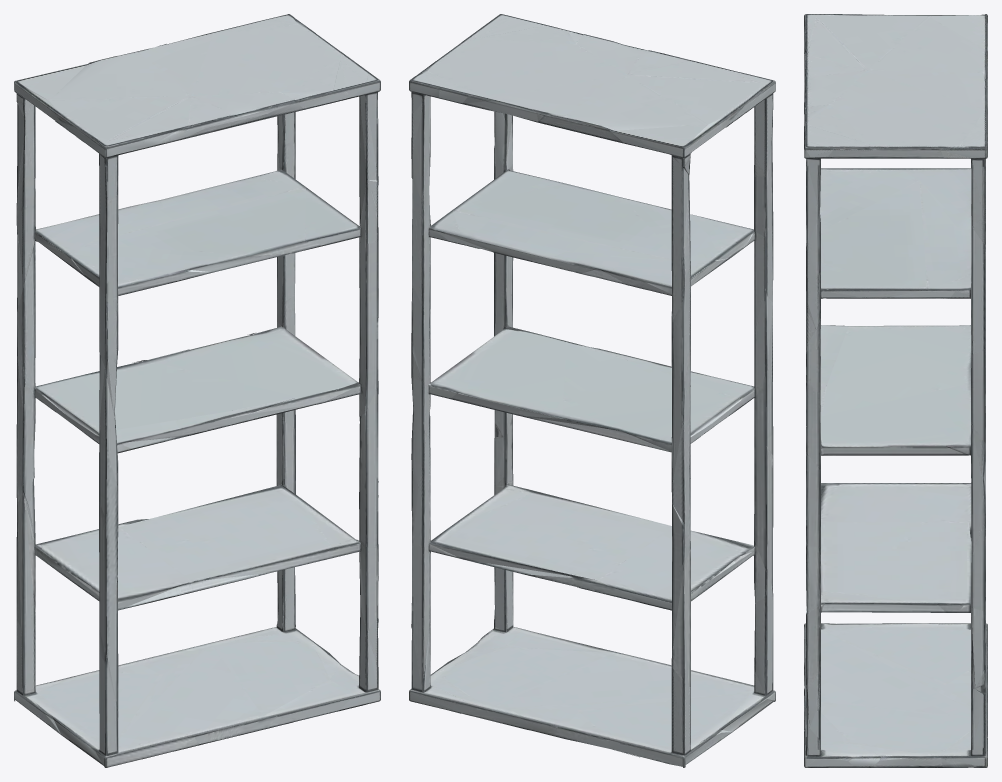
The model's file is greenhouse_cabinet.glb.
3 views of the same model, side by side, from view 1: azimuth 30°, elevation 25°; view 2: azimuth 150°, elevation 25°; view 3: azimuth 270°, elevation 25° (orthographic).
Size of the model in its own units: 0.8859 by 1.9 by 0.511.
1 material, 1 textured.
